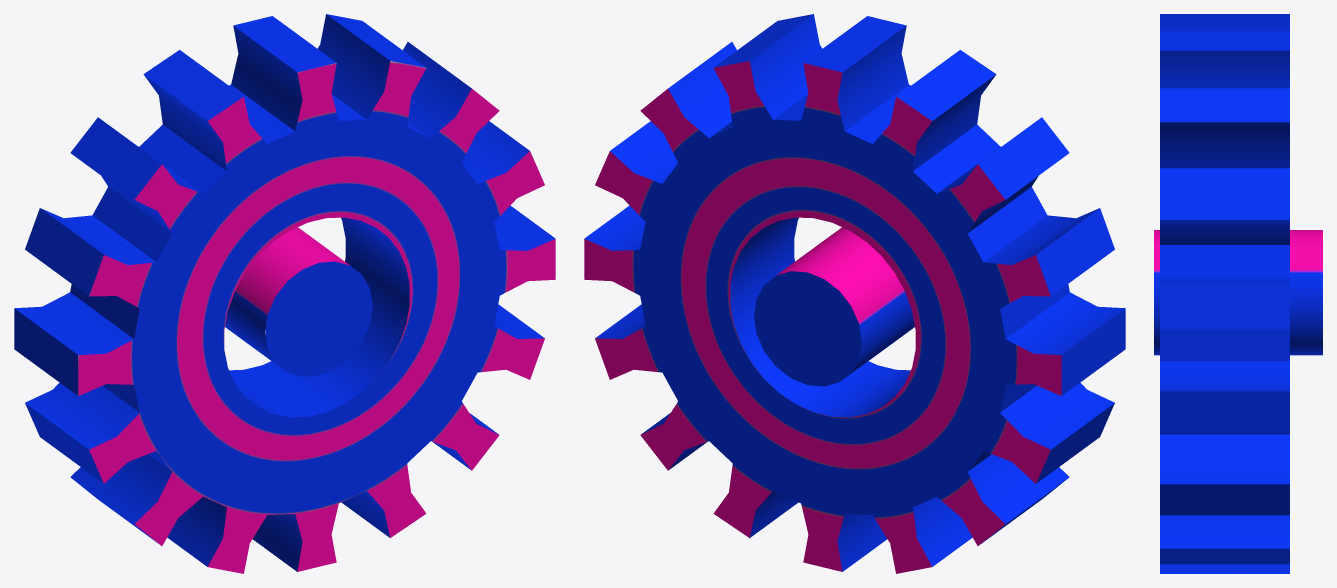
File: UV_gearBig3.fbx
3 views of the same model, side by side, from view 1: azimuth 30°, elevation 25°; view 2: azimuth 150°, elevation 25°; view 3: azimuth 270°, elevation 25° (orthographic).
Parts seen in each view (by area): view 1: gearBig3; view 2: gearBig3; view 3: gearBig3.
Boxes of the visible parts, x1=… form: gearBig3: x1=14, y1=14, x2=555, y2=573; gearBig3: x1=584, y1=14, x2=1125, y2=573; gearBig3: x1=1154, y1=14, x2=1322, y2=573.
Size of the model in its own units: 11.13 by 11.13 by 3.37.
Materials: 1 (1 with a texture image).
